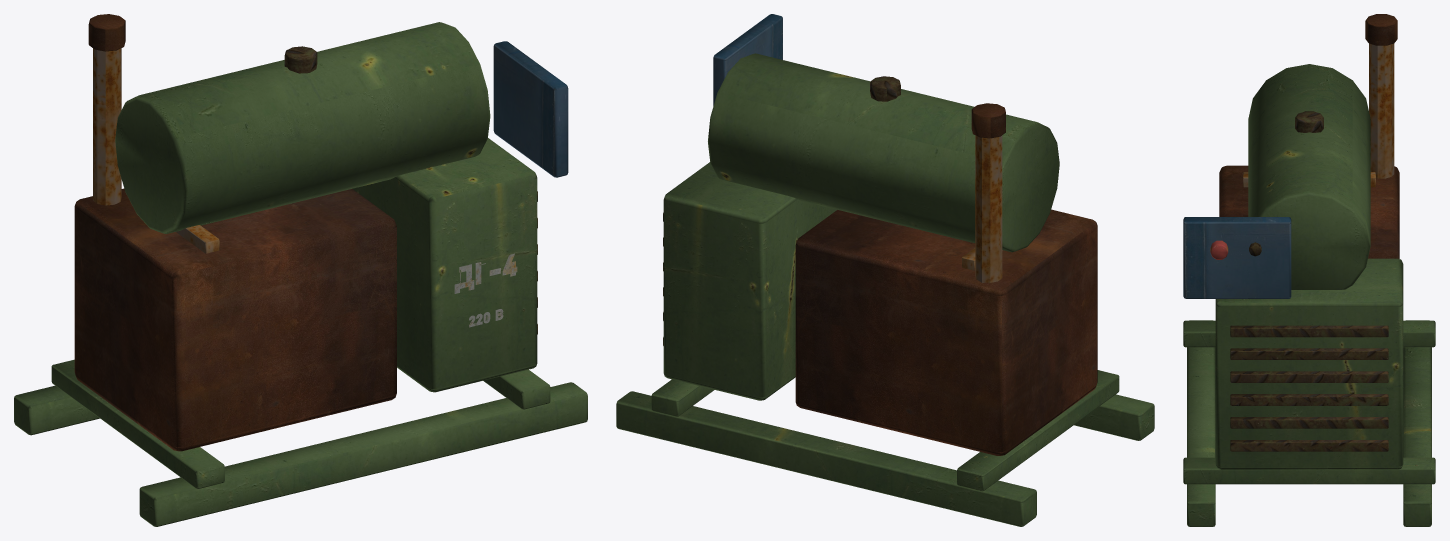
The model's file is deploy_generator.glb.
The picture shows the model from 3 angles, left to right: view 1: azimuth 30°, elevation 25°; view 2: azimuth 150°, elevation 25°; view 3: azimuth 270°, elevation 25°; orthographic projection. The views are drawn at different scales.
Parts seen in each view (by area): view 1: box.004, cyl, box.005, box, box.014, box.002, cyl.004, box.001, box.003, cyl.005, cyl.001, stencil (+1 smaller); view 2: box.004, cyl, box.005, box.001, cyl.004, box.002, box, box.014, box.003, cyl.005, cyl.001; view 3: box.005, cyl, box.014, box.003, box, box.001, box.004, cyl.004, box.011, box.008, box.006, box.007 (+5 smaller).
Boxes of the visible parts, <box> form: box.004: <box>74,188,396,451</box>; cyl: <box>115,22,490,233</box>; box.005: <box>352,138,537,392</box>; box: <box>139,382,587,526</box>; box.014: <box>493,41,568,177</box>; box.002: <box>51,359,224,488</box>; cyl.004: <box>93,48,121,205</box>; box.001: <box>14,385,99,435</box>; box.003: <box>483,369,550,409</box>; cyl.005: <box>88,14,125,51</box>; cyl.001: <box>284,46,317,73</box>; stencil: <box>454,253,517,293</box>; box.004: <box>795,209,1097,455</box>; cyl: <box>708,53,1059,252</box>; box.005: <box>663,162,836,400</box>; box.001: <box>616,391,1036,526</box>; cyl.004: <box>975,135,1002,282</box>; box.002: <box>957,370,1119,491</box>; box: <box>1074,394,1154,440</box>; box.014: <box>713,14,782,105</box>; box.003: <box>651,379,714,416</box>; cyl.005: <box>971,103,1005,138</box>; cyl.001: <box>870,76,900,101</box>; box.005: <box>1215,258,1403,469</box>; cyl: <box>1248,64,1370,289</box>; box.014: <box>1183,217,1291,298</box>; box.003: <box>1183,457,1435,484</box>; box: <box>1187,320,1215,526</box>; box.001: <box>1403,320,1431,526</box>; box.004: <box>1219,165,1399,258</box>; cyl.004: <box>1369,43,1394,178</box>; box.011: <box>1230,325,1388,337</box>; box.008: <box>1230,394,1388,405</box>; box.006: <box>1230,440,1388,451</box>; box.007: <box>1230,417,1388,428</box>.
Size of the model in its own units: 1.2 by 1.08 by 0.7.
Materials: 7 (7 with a texture image).
